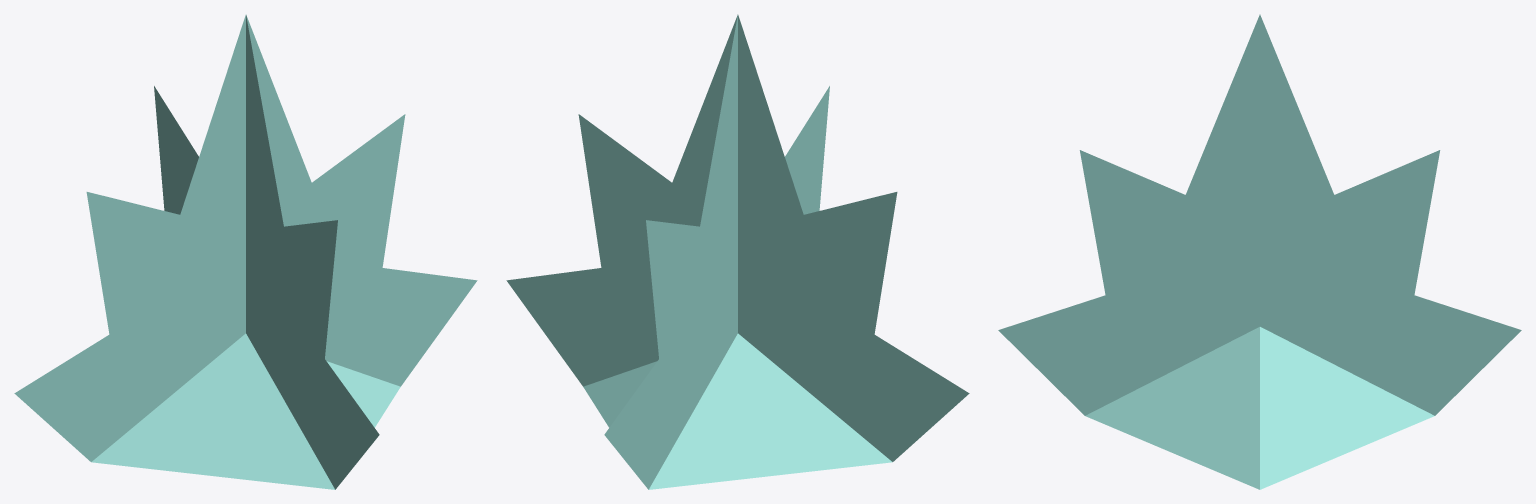
Rendered from plant_flatLarge.glb.
The picture shows the model from 3 angles, left to right: view 1: azimuth 30°, elevation 25°; view 2: azimuth 150°, elevation 25°; view 3: azimuth 270°, elevation 25°; orthographic projection. The views are drawn at different scales.
Parts seen in each view (by area): view 1: plant_flatLarge; view 2: plant_flatLarge; view 3: plant_flatLarge.
Part boxes in pixels (x1,y1,x2,y2): plant_flatLarge: (14,14,477,489); plant_flatLarge: (506,14,969,489); plant_flatLarge: (998,14,1521,489).
Bounding box in the file's own units: 0.2776 × 0.2351 × 0.2776.
